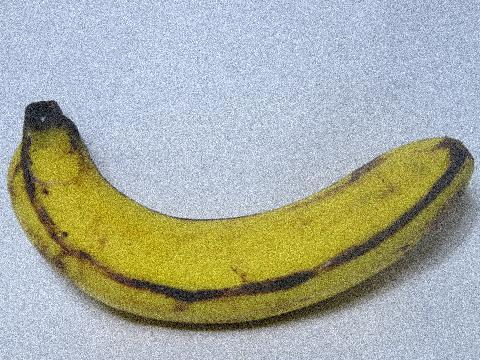ripe: (5, 93, 479, 344)
